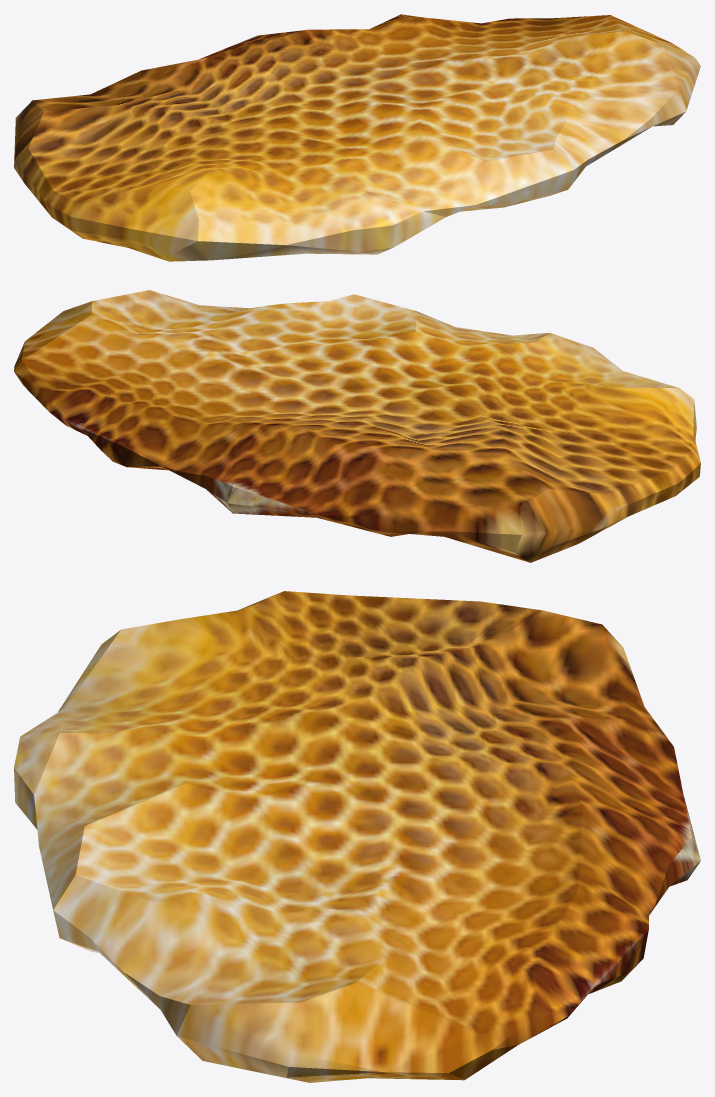
The model's file is WorldItem_HCBeehive.fbx.
3 views of the same model, one above another, from view 1: azimuth 30°, elevation 25°; view 2: azimuth 150°, elevation 25°; view 3: azimuth 270°, elevation 25° (orthographic). The views are drawn at different scales.
Parts seen in each view (by area): view 1: Beehive; view 2: Beehive; view 3: Beehive.
Boxes of the visible parts, box(x1,y1,x2,y2) form: Beehive: box(14, 14, 700, 261); Beehive: box(14, 290, 700, 562); Beehive: box(14, 591, 700, 1082).
Size of the model in its own units: 0.2943 by 0.036 by 0.1856.
